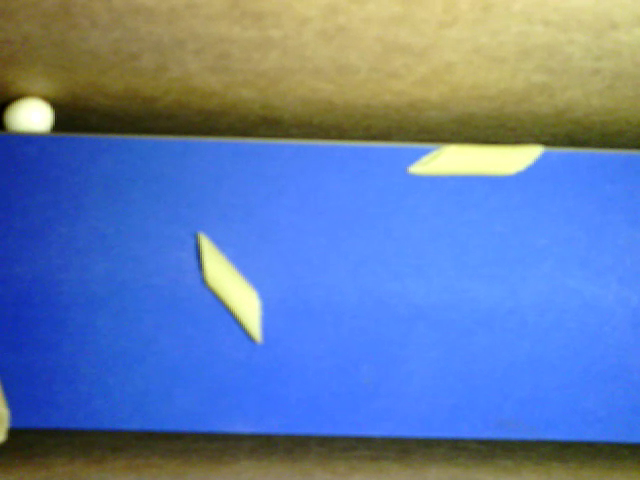penne: (198, 229, 263, 344), (407, 143, 543, 176)
